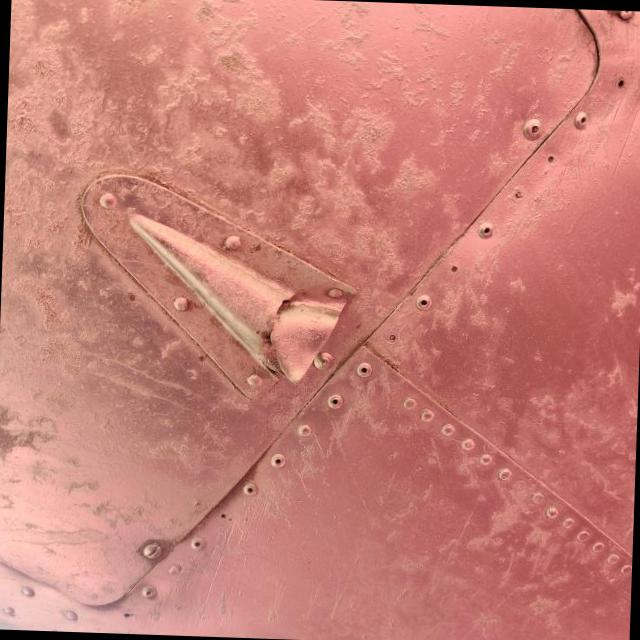Crack: (262, 292, 347, 383)
